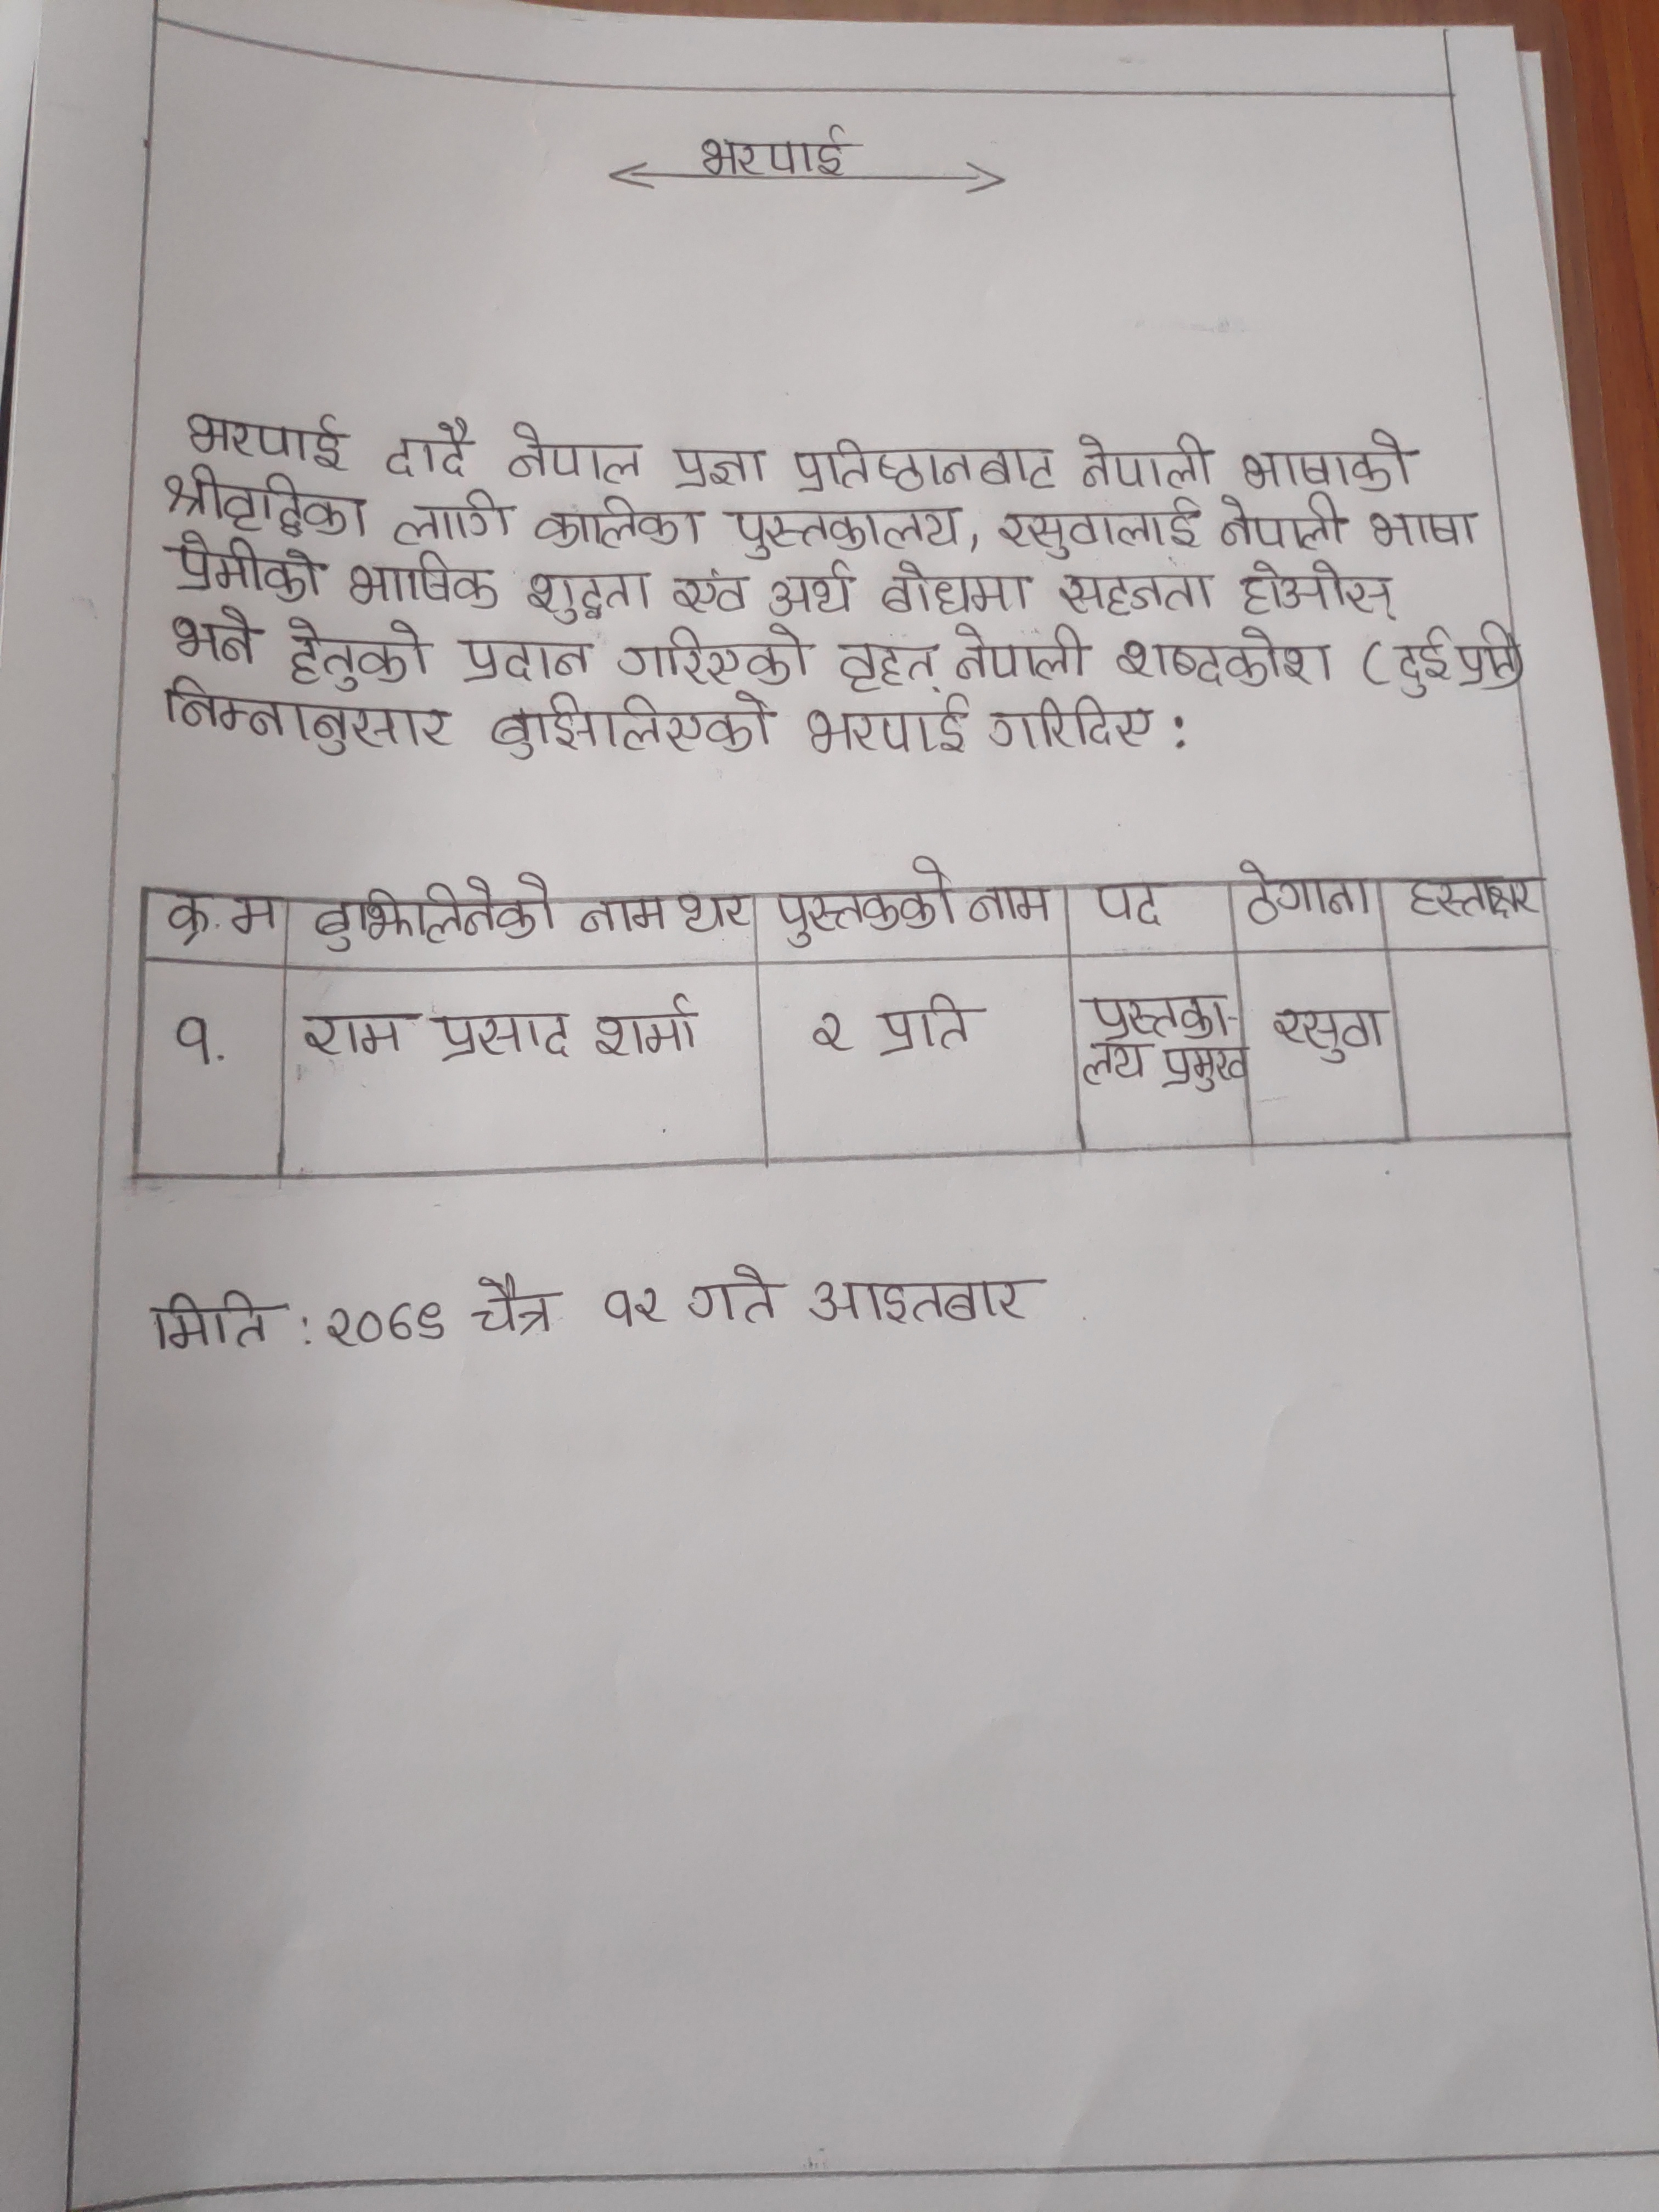text: (160, 669, 450, 756), (308, 878, 561, 954), (491, 695, 781, 759), (788, 432, 1061, 500), (769, 855, 962, 949), (1110, 622, 1335, 693), (995, 488, 1201, 564), (162, 467, 369, 540), (805, 1271, 1042, 1332), (723, 500, 967, 556), (1230, 550, 1410, 624), (610, 625, 812, 688), (1239, 428, 1424, 495), (282, 615, 429, 697), (171, 528, 326, 603), (537, 489, 708, 552), (988, 698, 1161, 759), (800, 698, 972, 758), (347, 549, 502, 613), (951, 615, 1094, 685), (1230, 859, 1373, 927), (425, 1001, 575, 1066), (875, 559, 1030, 620), (183, 413, 352, 469), (146, 1285, 281, 1355), (1387, 622, 1518, 693), (504, 418, 648, 482), (688, 122, 854, 178), (1075, 428, 1218, 491), (1079, 984, 1230, 1040), (1398, 869, 1539, 928), (321, 1294, 451, 1355), (162, 883, 282, 949), (523, 566, 657, 625), (1220, 496, 1351, 556), (457, 634, 598, 688), (586, 993, 706, 1055), (1060, 571, 1213, 620), (866, 993, 978, 1059), (392, 484, 512, 545), (1265, 1003, 1385, 1064), (467, 1270, 565, 1339), (831, 634, 945, 693), (295, 1005, 413, 1061), (687, 1261, 791, 1324), (382, 418, 477, 479), (1363, 505, 1485, 552), (769, 561, 864, 620), (167, 606, 263, 665), (1159, 1038, 1251, 1097), (669, 441, 770, 495), (579, 888, 673, 942), (1086, 880, 1176, 932), (967, 880, 1061, 928), (671, 566, 751, 620), (1079, 1042, 1154, 1089), (603, 1282, 674, 1331), (174, 1007, 221, 1075), (676, 892, 748, 934), (805, 1007, 849, 1055)
